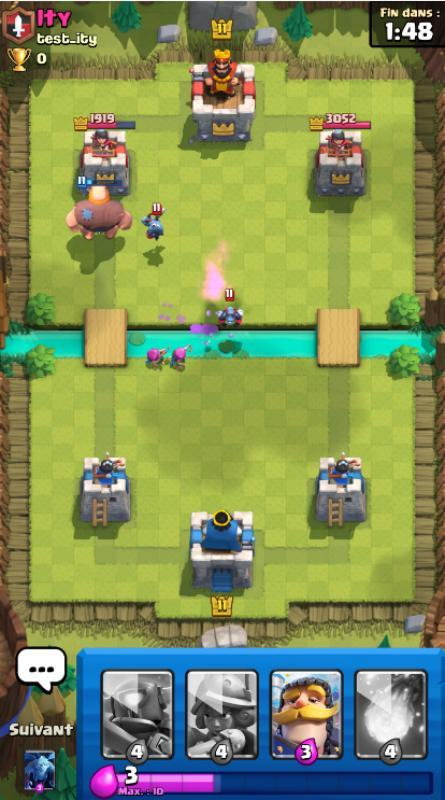archere: (170, 342, 194, 371), (144, 345, 170, 370)
gargouille: (216, 288, 243, 330), (141, 203, 166, 241)
geant: (66, 176, 131, 240)
